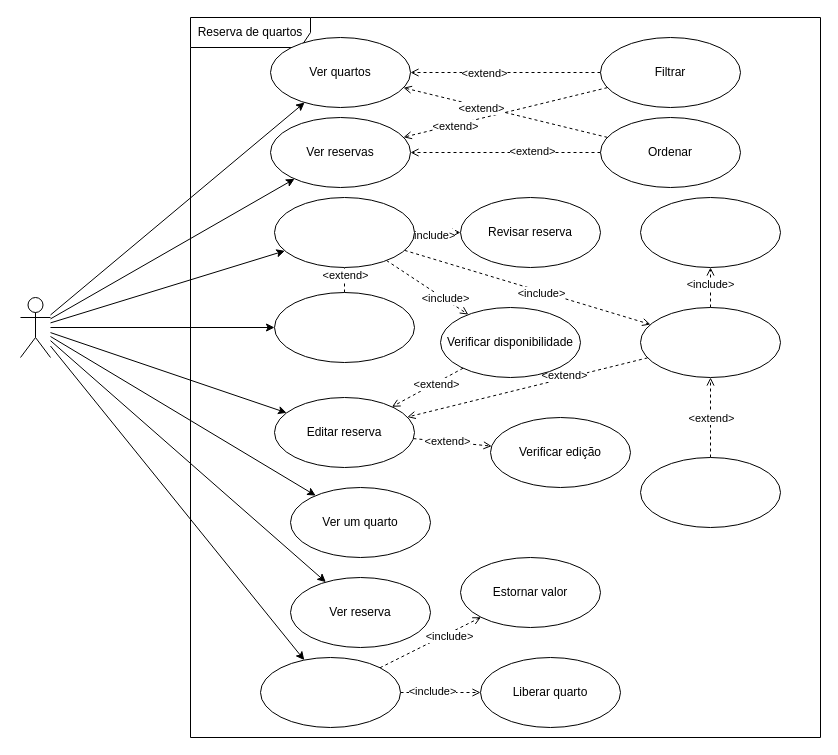
This 838x755 diagram has some shape labels left out. The shapes that lost their labels are listed below. From the top down, each one's centre as x and y in pixels, then its label:
At pixel 344 232: "Reservar quarto".
At pixel 710 232: "Confirmar pagamento".
At pixel 35 327: "Cliente".
At pixel 344 327: "Completar cadastro".
At pixel 710 342: "Selecionar método de pagamento".
At pixel 710 492: "Adicionar método de pagamento".
At pixel 330 692: "Cancelar reserva".
